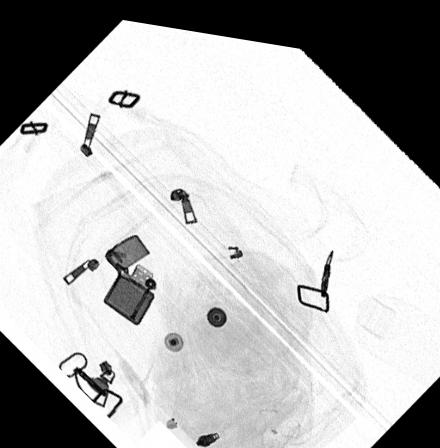Lighter: (100, 228, 157, 320)
